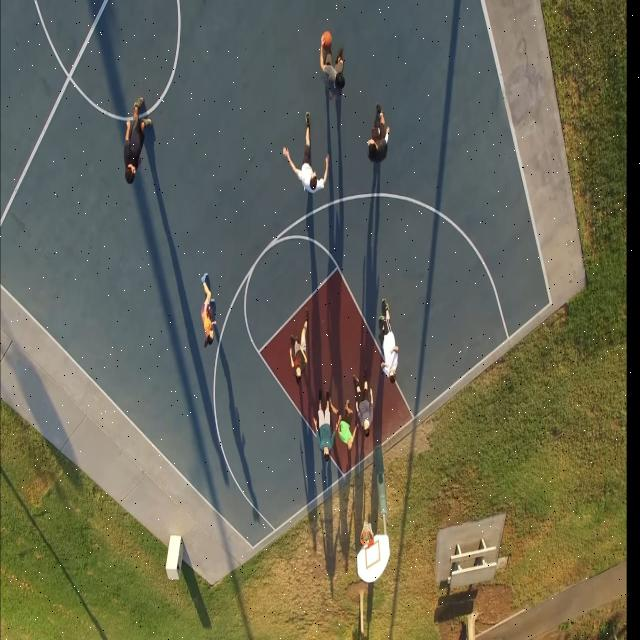humans: (282, 112, 329, 197), (122, 96, 154, 189), (318, 28, 348, 102), (366, 96, 391, 173), (380, 294, 399, 389), (350, 368, 374, 440), (289, 316, 311, 391), (200, 273, 219, 352), (332, 400, 358, 457), (315, 390, 335, 464)
